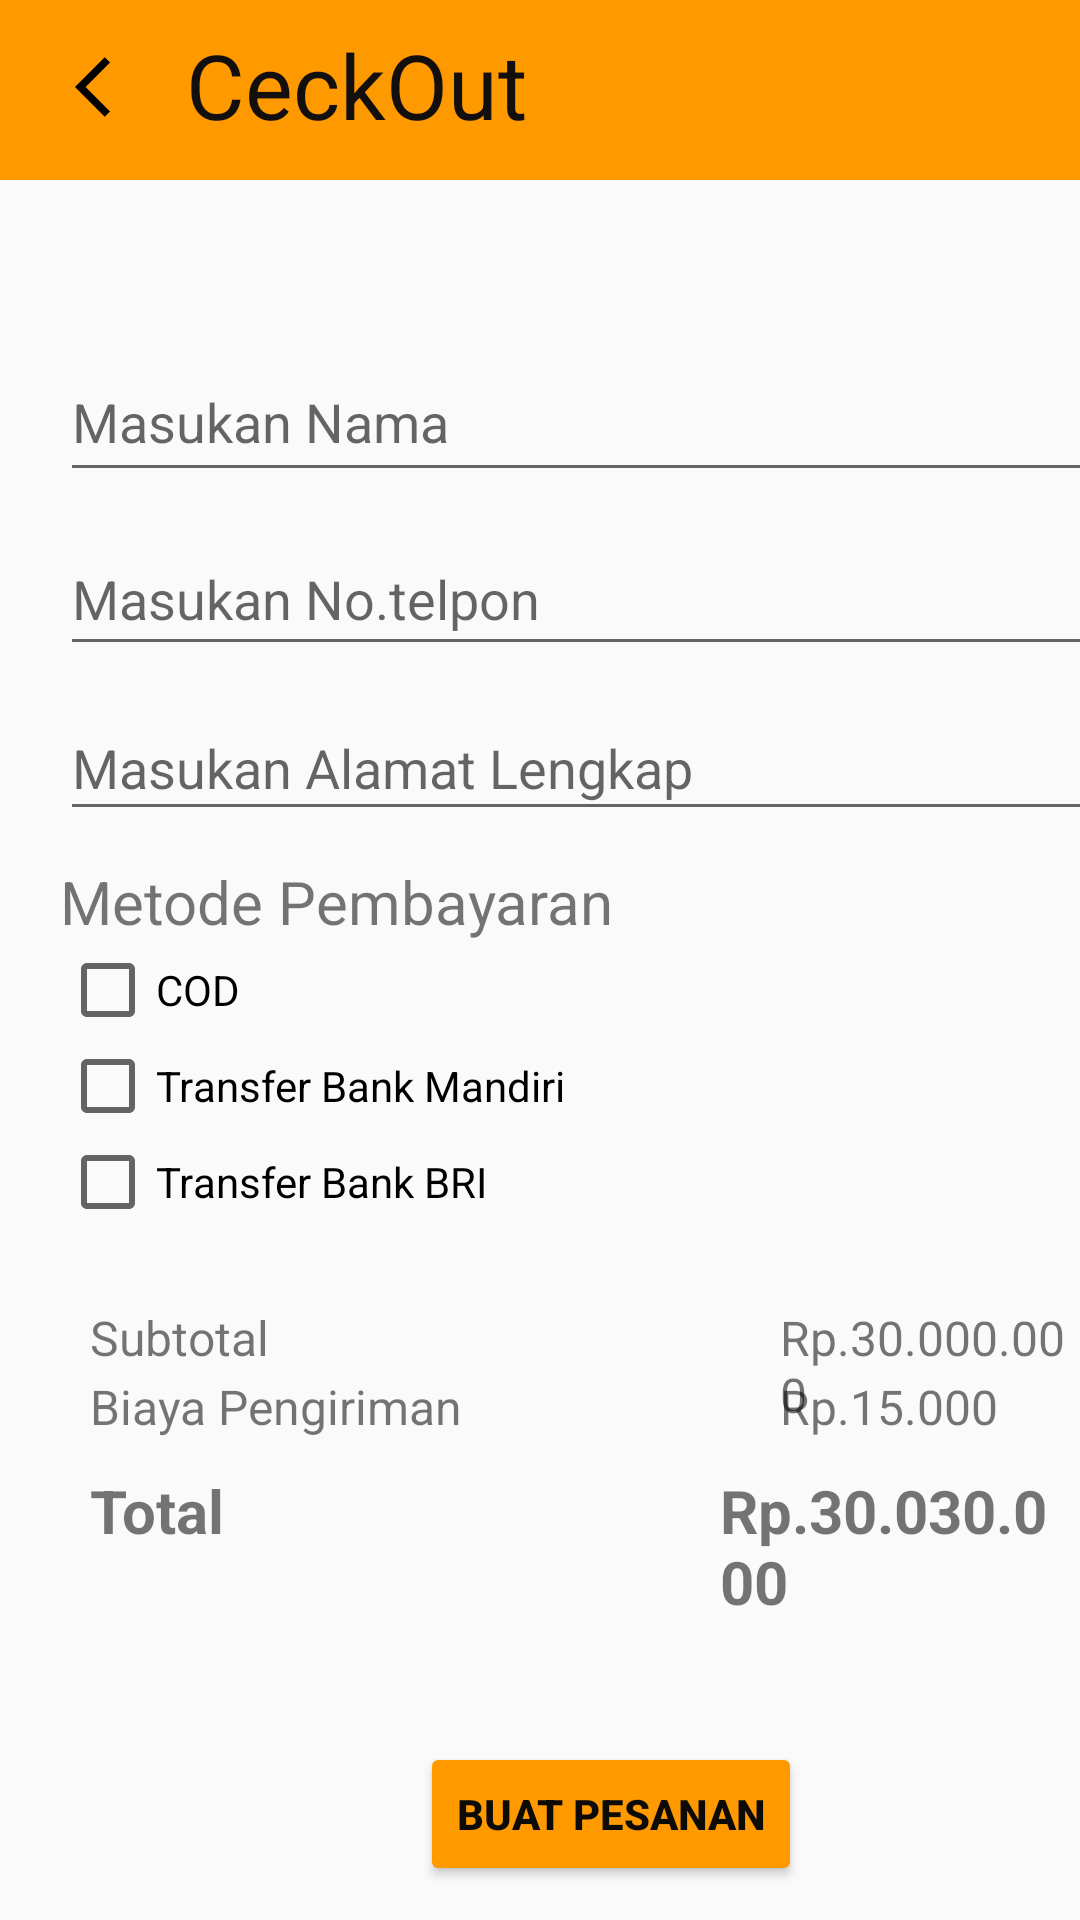

Icon bounding boxes for this 1080×1920 phone screenshot, format (x1, y1, x2, y2):
arrow back: (75, 57, 110, 117)
